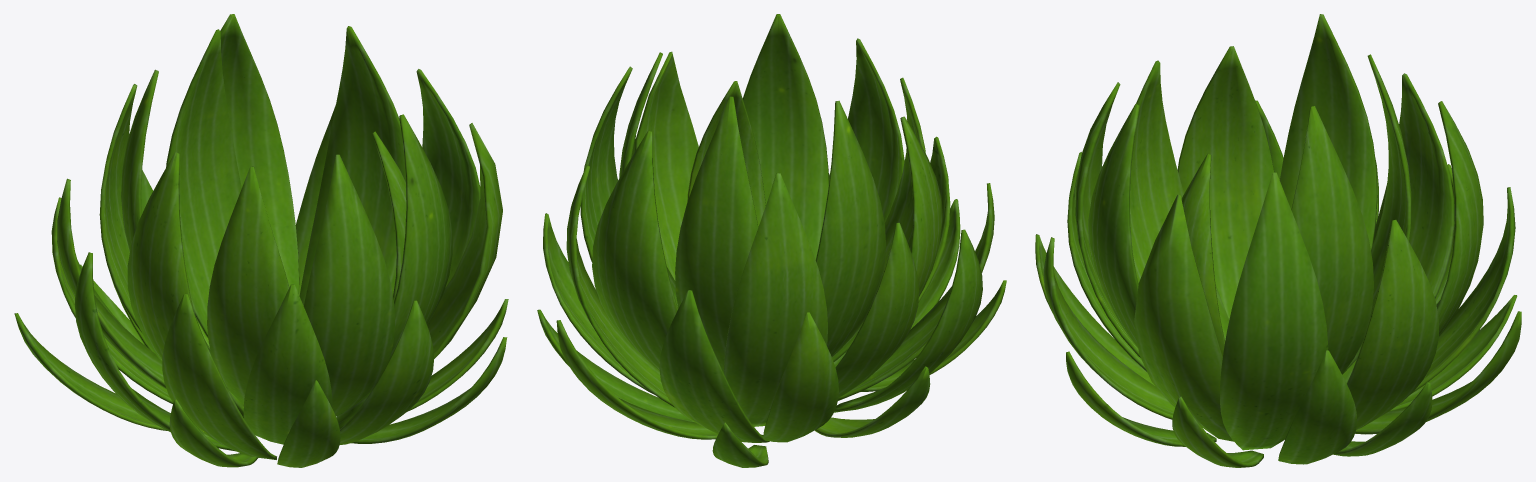
Rendered from Hojas.fbx.
3 renders of one model, left to right at view 1: azimuth 30°, elevation 25°; view 2: azimuth 150°, elevation 25°; view 3: azimuth 270°, elevation 25°, orthographic. The views are drawn at different scales.
Visible parts, largest first — view 1: Techo Casa Bob; view 2: Techo Casa Bob; view 3: Techo Casa Bob.
Boxes of the visible parts, box(x1,y1,x2,y2) form: Techo Casa Bob: box(14, 14, 508, 467); Techo Casa Bob: box(537, 14, 1006, 467); Techo Casa Bob: box(1035, 14, 1521, 467).
Bounding box in the file's own units: 1256 × 1070 × 1255.
1 material, 1 textured.
